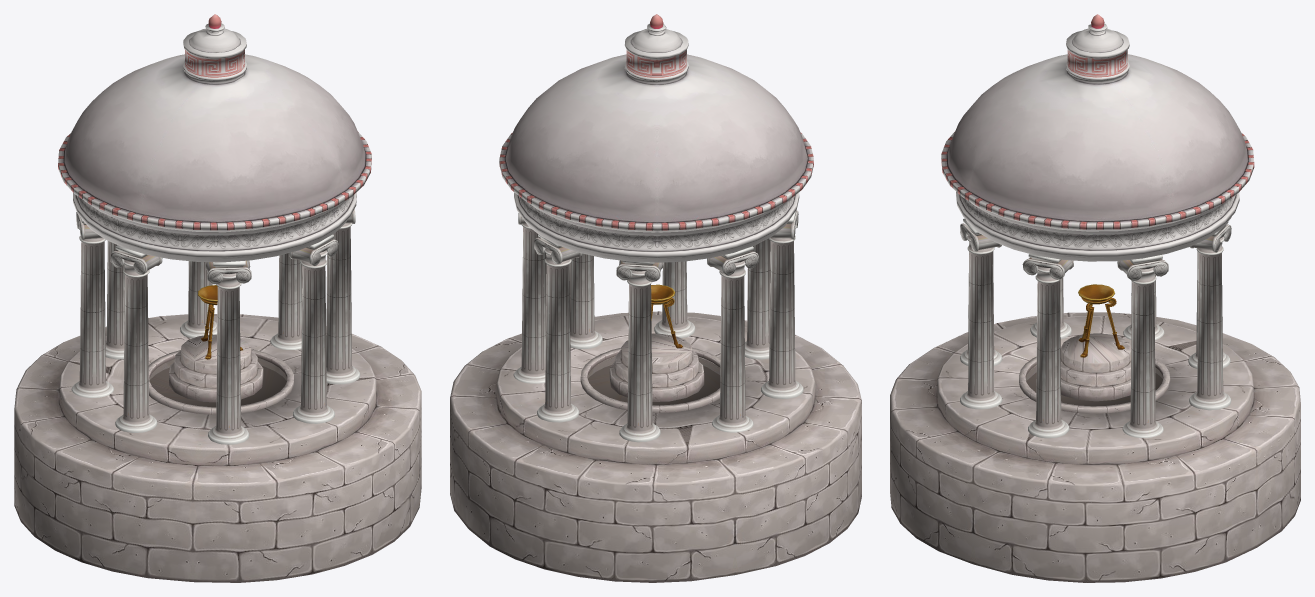
The model's file is tholos.glb.
3 renders of one model, left to right at view 1: azimuth 30°, elevation 25°; view 2: azimuth 150°, elevation 25°; view 3: azimuth 270°, elevation 25°, orthographic.
Visible parts, largest first — view 1: bigstairs_0, Top_0, Column.006_0, Column.007_0, Column.005_0, Column.001_0, Column.002_0, Stairs_Small_0, Column.003_0, Column.004_0, Cylinder.001_0, Column_0; view 2: bigstairs_0, Top_0, Column.001_0, Column.004_0, Column_0, Column.006_0, Stairs_Small_0, Column.003_0, Column.007_0, Column.002_0, Column.005_0, Cylinder.001_0; view 3: bigstairs_0, Top_0, Column.002_0, Column.003_0, Column.005_0, Column_0, Stairs_Small_0, Cylinder.001_0, Brazier_Bowl_0.
Boxes of the visible parts, left/top/right/bottom form: bigstairs_0: left=14, top=314, right=421, bottom=582; Top_0: left=58, top=14, right=371, bottom=262; Column.006_0: left=110, top=245, right=162, bottom=432; Column.007_0: left=205, top=260, right=251, bottom=444; Column.005_0: left=289, top=234, right=338, bottom=423; Column.001_0: left=71, top=212, right=113, bottom=397; Column.002_0: left=326, top=209, right=360, bottom=384; Stairs_Small_0: left=169, top=334, right=263, bottom=402; Column.003_0: left=270, top=253, right=302, bottom=349; Column.004_0: left=105, top=241, right=124, bottom=359; Cylinder.001_0: left=148, top=349, right=293, bottom=414; Column_0: left=180, top=261, right=217, bottom=338; bigstairs_0: left=450, top=311, right=861, bottom=582; Top_0: left=499, top=14, right=813, bottom=262; Column.001_0: left=707, top=246, right=758, bottom=432; Column.004_0: left=616, top=260, right=663, bottom=442; Column_0: left=534, top=234, right=582, bottom=422; Column.006_0: left=761, top=210, right=803, bottom=398; Stairs_Small_0: left=609, top=334, right=704, bottom=401; Column.003_0: left=513, top=213, right=546, bottom=383; Column.007_0: left=745, top=238, right=770, bottom=359; Column.002_0: left=569, top=253, right=602, bottom=349; Column.005_0: left=654, top=261, right=695, bottom=338; Cylinder.001_0: left=580, top=347, right=720, bottom=412; bigstairs_0: left=890, top=312, right=1300, bottom=582; Top_0: left=941, top=14, right=1254, bottom=261; Column.002_0: left=1022, top=254, right=1073, bottom=438; Column.003_0: left=1117, top=255, right=1168, bottom=437; Column.005_0: left=960, top=218, right=1002, bottom=409; Column_0: left=1189, top=222, right=1231, bottom=410; Stairs_Small_0: left=1060, top=333, right=1131, bottom=401; Cylinder.001_0: left=1019, top=356, right=1170, bottom=413; Brazier_Bowl_0: left=1078, top=284, right=1114, bottom=304.
Size of the model in its own units: 11.54 by 14.9 by 11.53.
3 materials, 3 textured.
